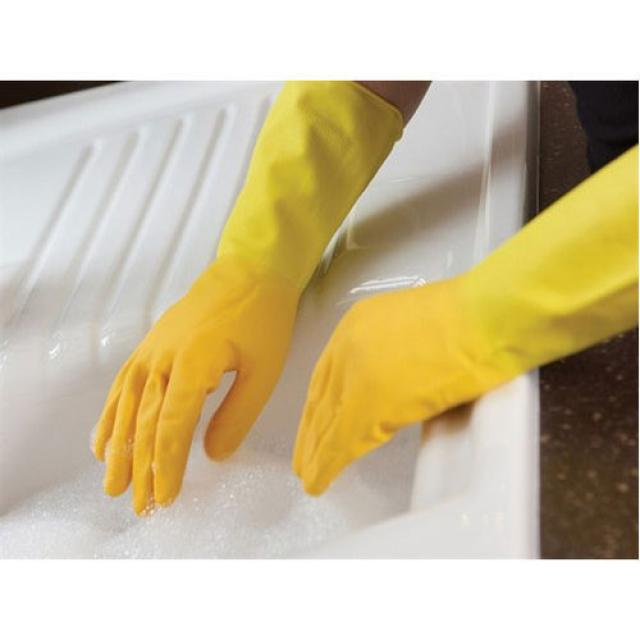gloves: (91, 79, 402, 517), (289, 143, 640, 497)
